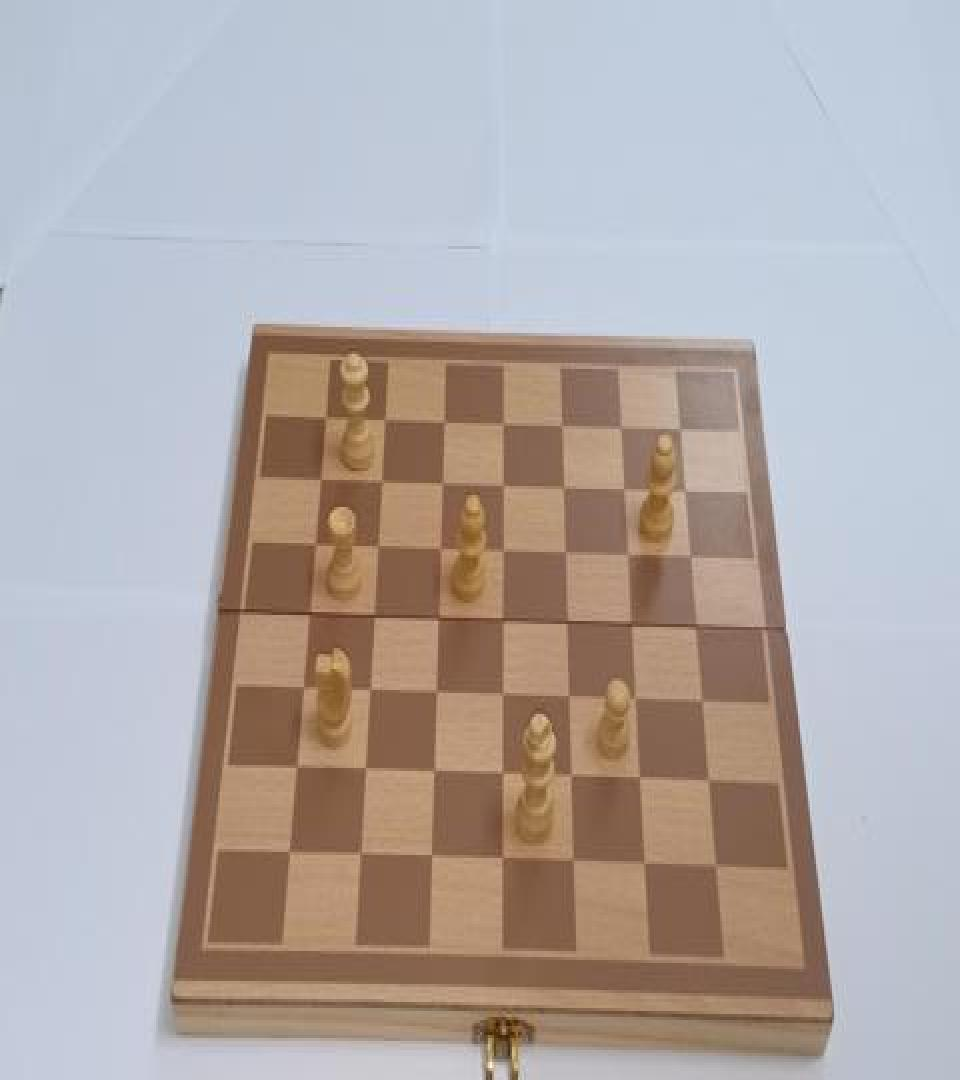xcorner: (495, 760, 513, 788), (670, 412, 688, 440), (315, 402, 333, 429), (299, 598, 317, 625), (287, 753, 305, 780), (280, 838, 298, 865), (374, 404, 392, 431), (371, 465, 389, 492), (368, 531, 386, 558), (360, 676, 378, 703), (356, 756, 374, 783), (433, 405, 451, 432), (432, 468, 450, 495), (431, 534, 449, 561), (429, 603, 447, 630), (427, 678, 445, 705), (424, 843, 442, 870), (493, 408, 511, 435), (493, 470, 511, 497), (494, 606, 512, 633), (496, 846, 514, 873), (554, 471, 572, 498), (556, 537, 574, 564), (561, 683, 579, 710), (564, 762, 582, 789), (567, 849, 585, 876), (611, 411, 629, 438), (615, 474, 633, 501), (619, 540, 637, 567), (624, 609, 642, 636), (629, 684, 647, 711), (634, 765, 652, 792), (639, 851, 657, 878), (689, 612, 707, 639), (696, 687, 714, 714), (703, 766, 721, 793), (310, 464, 328, 490), (305, 530, 323, 556), (294, 674, 312, 700), (364, 602, 382, 628), (352, 842, 370, 868), (426, 758, 444, 784), (493, 536, 511, 562), (494, 680, 512, 706), (552, 410, 570, 436), (559, 608, 577, 634), (676, 476, 694, 502), (682, 542, 700, 568), (711, 854, 729, 880)
